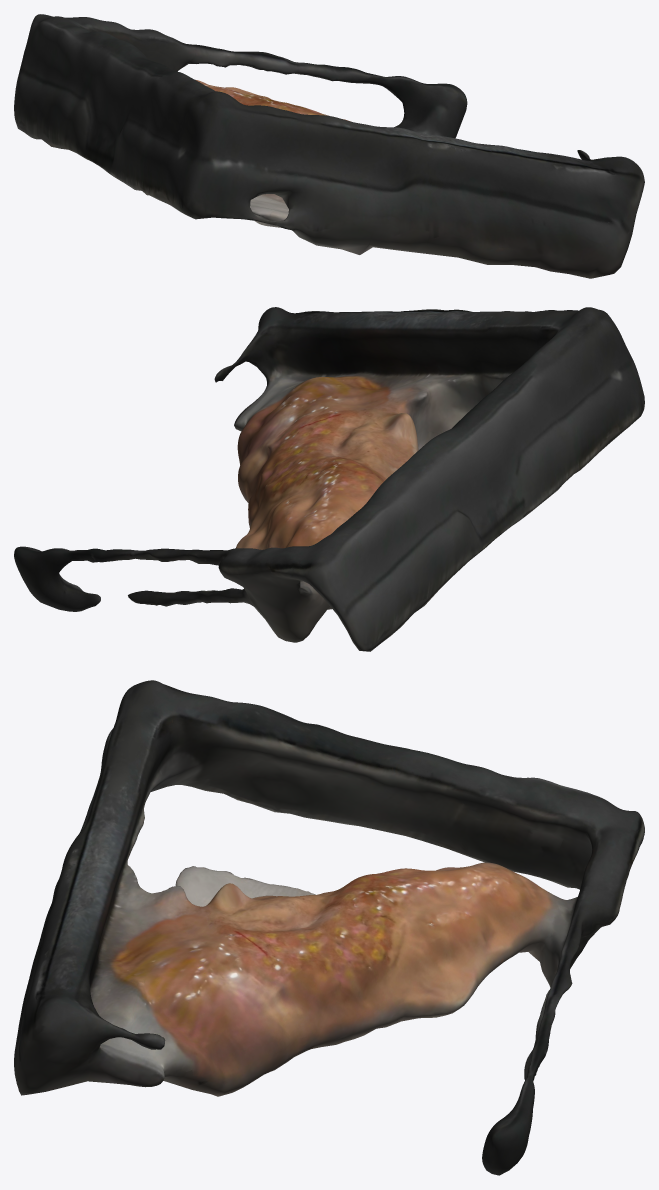
The picture shows the model from 3 angles, top to bottom: view 1: azimuth 30°, elevation 25°; view 2: azimuth 150°, elevation 25°; view 3: azimuth 270°, elevation 25°; orthographic projection. The views are drawn at different scales.
Size of the model in its own units: 0.6805 by 0.3849 by 0.7581.
1 material, 1 textured.
